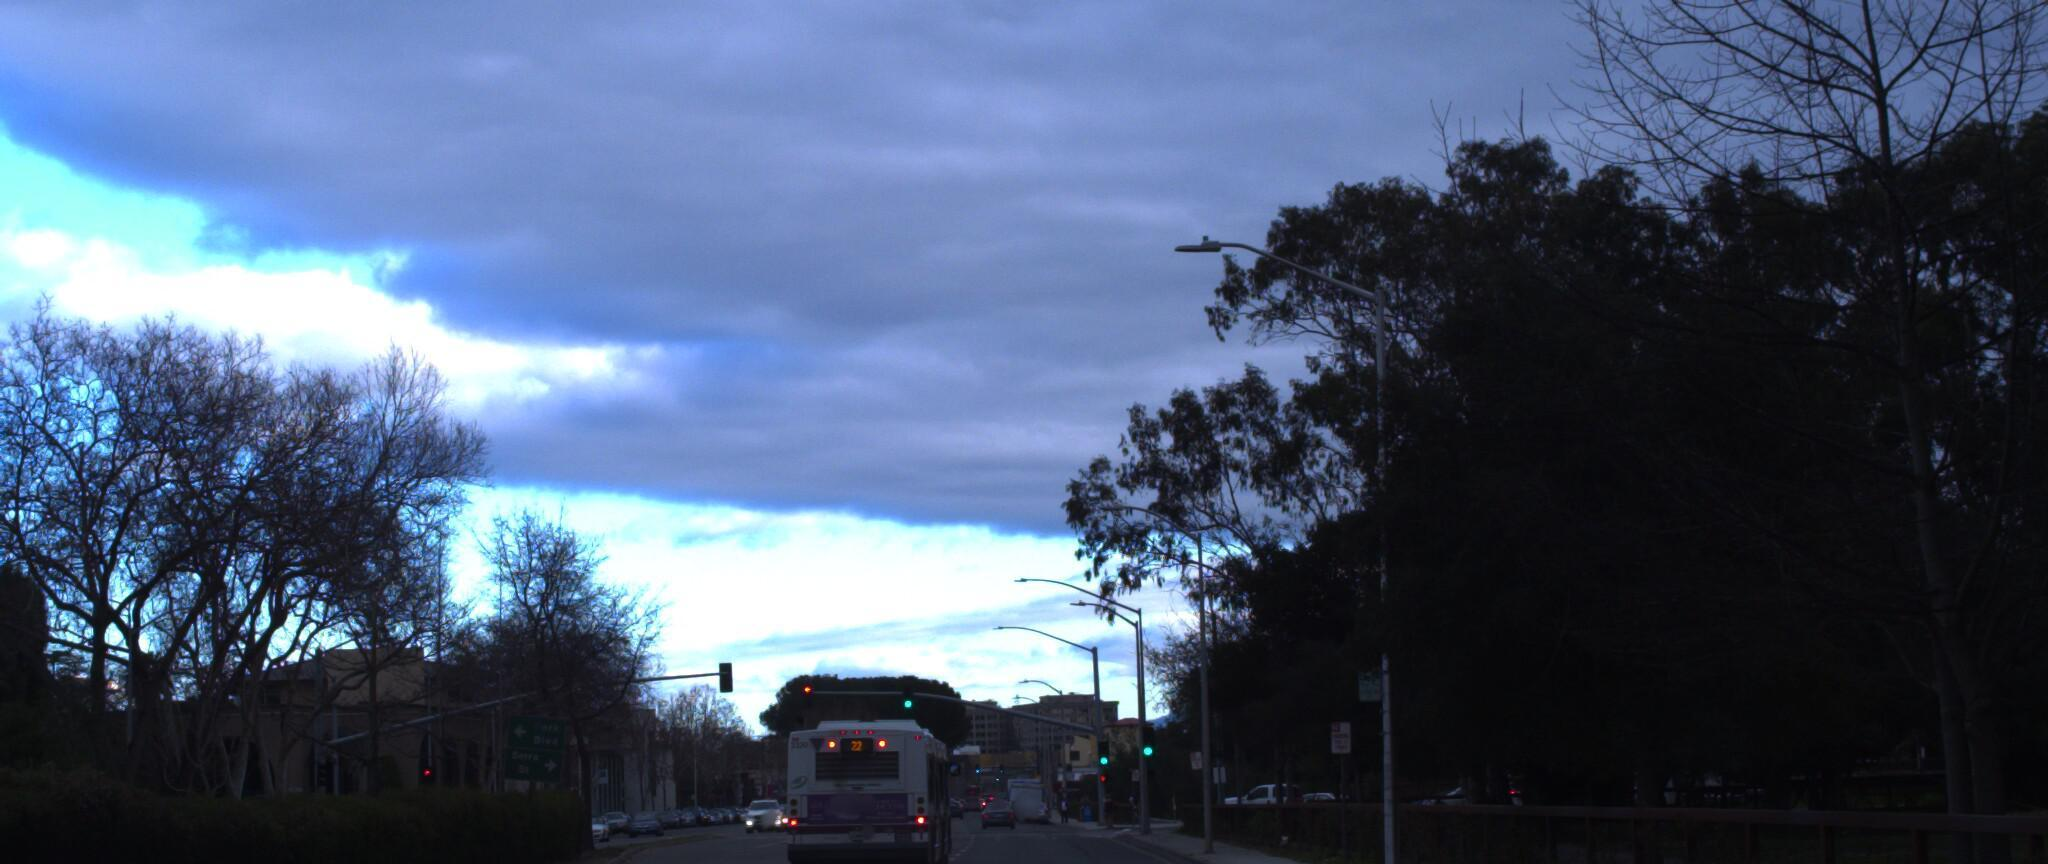bus: (785, 701, 957, 864)
